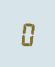zero: (19, 19, 33, 47)
